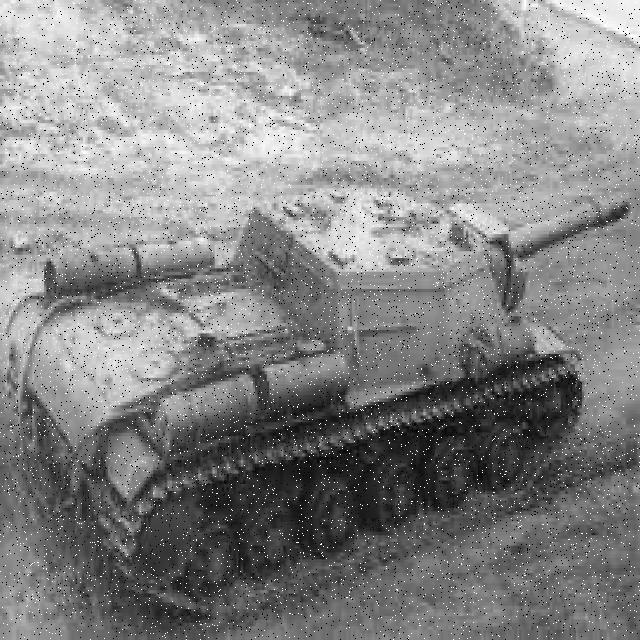MIL_MBT: (10, 196, 601, 599)
